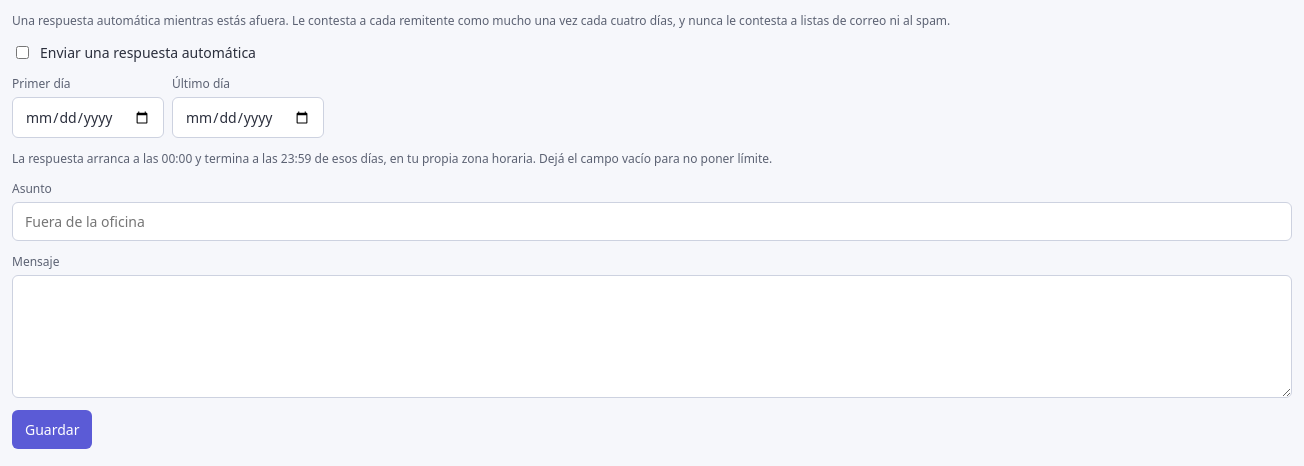
Test: the patch › reports the outcome rather than assuming it worked
Click the button "Guardar". click: (52, 430)
box: [12, 410, 92, 449]
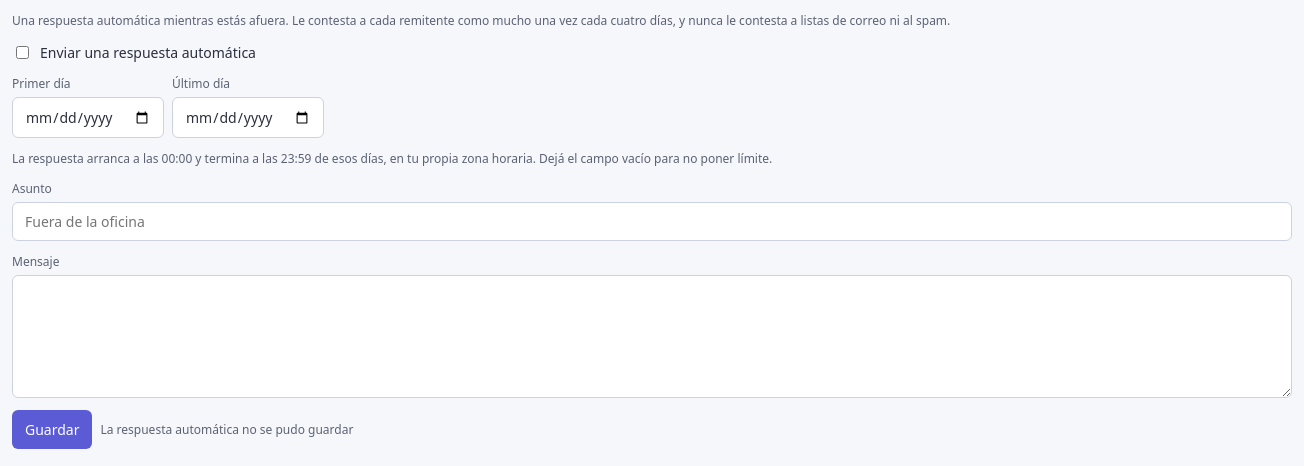
Expected: the text "La respuesta automática no se pudo guardar" is shown, [100, 420, 353, 438]
